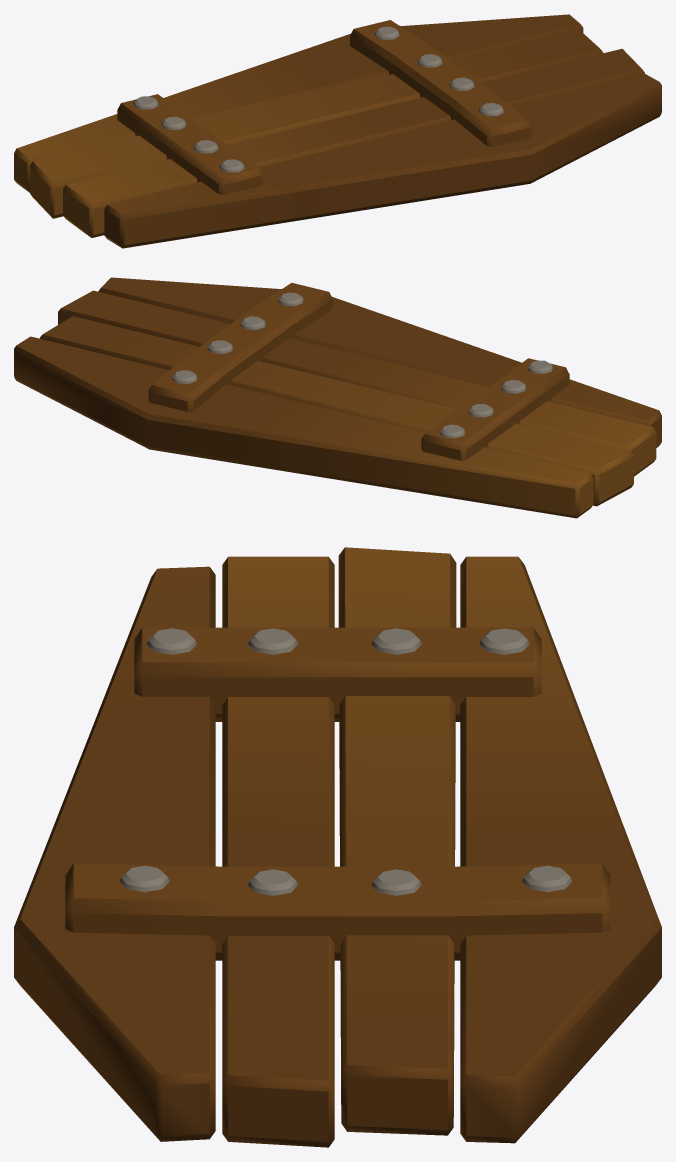
Rendered from Cofin_Lid_2_1.obj.
3 renders of one model, top to bottom at view 1: azimuth 30°, elevation 25°; view 2: azimuth 150°, elevation 25°; view 3: azimuth 270°, elevation 25°, orthographic. The views are drawn at different scales.
Parts seen in each view (by area): view 1: Cofin_Lid_2_1; view 2: Cofin_Lid_2_1; view 3: Cofin_Lid_2_1.
Part boxes in pixels (x1,y1,x2,y2): Cofin_Lid_2_1: (14, 14, 661, 248); Cofin_Lid_2_1: (14, 277, 661, 518); Cofin_Lid_2_1: (14, 547, 661, 1147).
Size of the model in its own units: 1.36 by 0.1265 by 0.6911.
